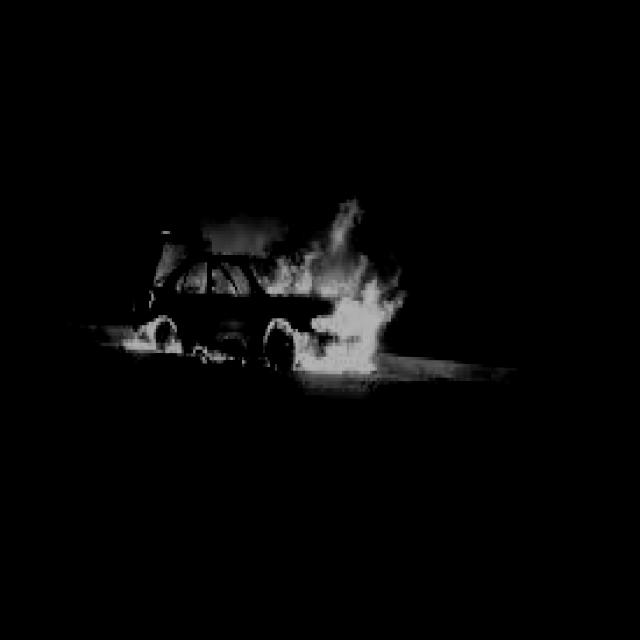fire: (246, 192, 416, 382), (107, 256, 205, 374)
